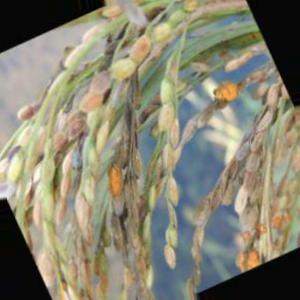Leaf_Scald: (210, 74, 245, 111), (240, 236, 260, 283), (106, 163, 129, 198)
